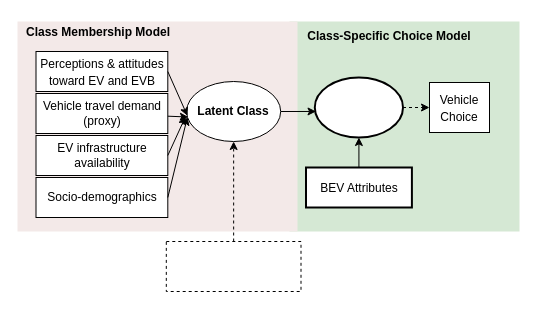
Some shapes in this 536 by 309 pixel diagram are drawn without their labels. Each missing label, with the centre of its shape:
"Inactive indicators (not included in the model, but help describe the classes)" goes at pixel 233 266.
"Utilities" goes at pixel 358 107.
